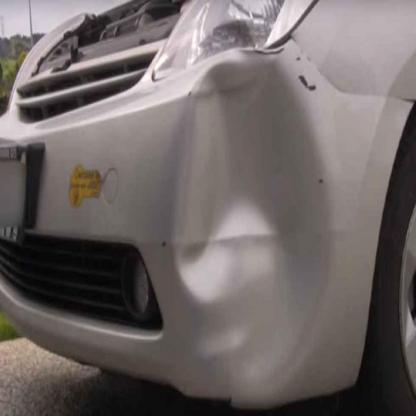front_bumper: (0, 38, 412, 411)
headlamp: (155, 1, 316, 79)
